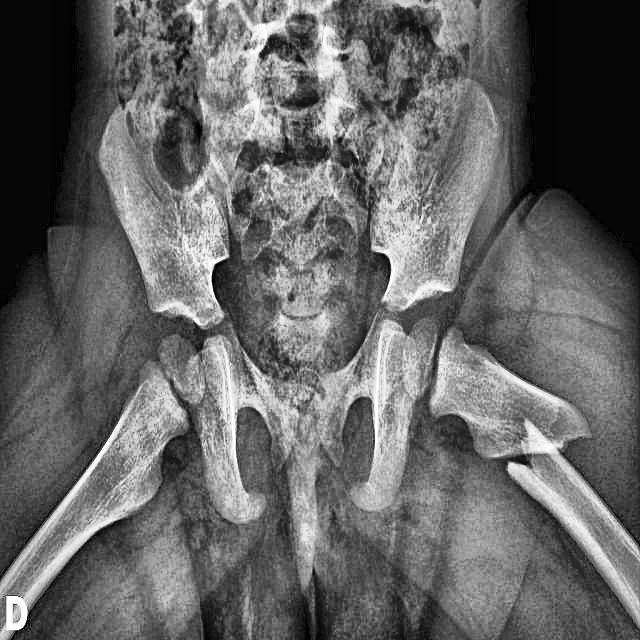Transverse: (483, 389, 601, 508)
